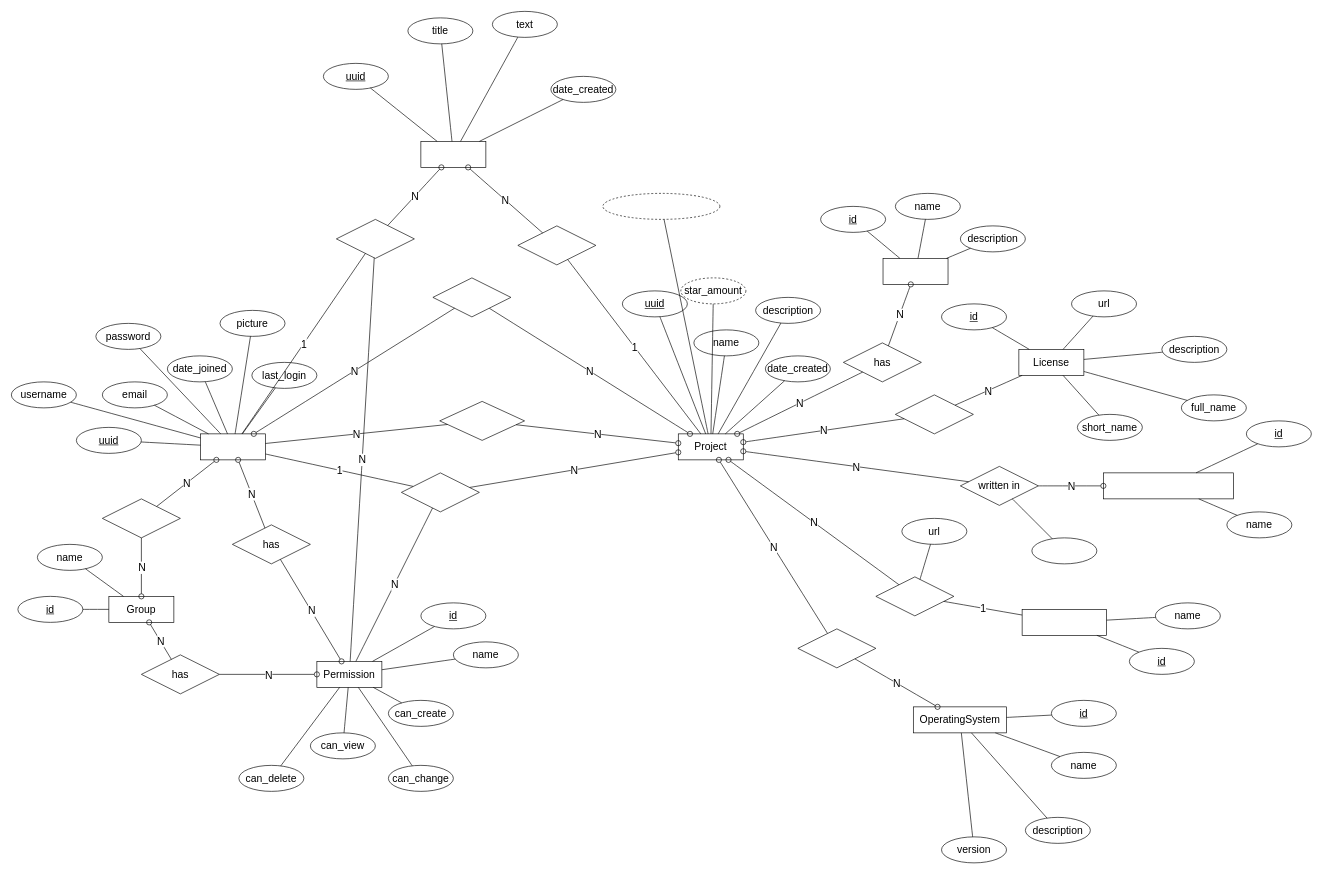
Some shapes in this 1323 by 874 pixel diagram are drawn without their labels. Each missing label, with the box of its shape:
author of: (336, 219, 414, 258)
belongs to: (102, 498, 180, 538)
contributor_amount: (602, 193, 720, 219)
for: (517, 225, 596, 265)
hosted on: (875, 576, 954, 616)
HostingPlatform: (1021, 609, 1107, 635)
is contributing: (439, 401, 525, 440)
owner of: (401, 472, 479, 512)
percentage: (1031, 537, 1097, 564)
ProgrammingLanguage: (1103, 472, 1233, 499)
protected by: (895, 394, 973, 434)
Review: (420, 141, 486, 167)
runs on: (797, 628, 876, 668)
star: (432, 277, 511, 317)
Tag: (882, 258, 948, 284)
User: (200, 433, 266, 460)
